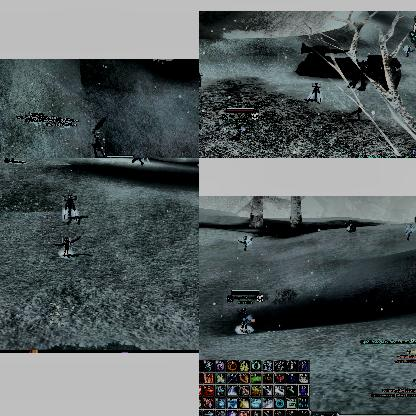caliana: (90, 119, 105, 158), (62, 194, 78, 222), (306, 84, 322, 102), (238, 236, 252, 250), (404, 223, 414, 241), (348, 108, 362, 120), (402, 45, 416, 57), (199, 71, 202, 88)
